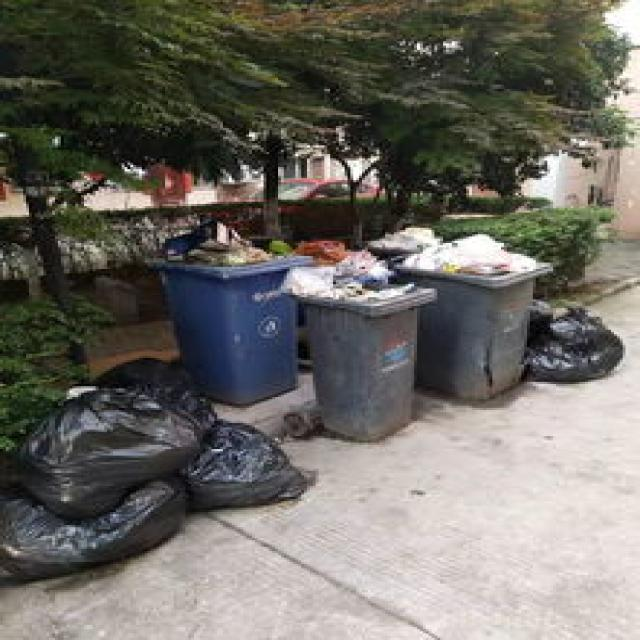garbage: (0, 354, 307, 584), (521, 297, 623, 382)
overflow: (278, 237, 434, 442), (142, 217, 301, 406), (391, 232, 550, 406)
